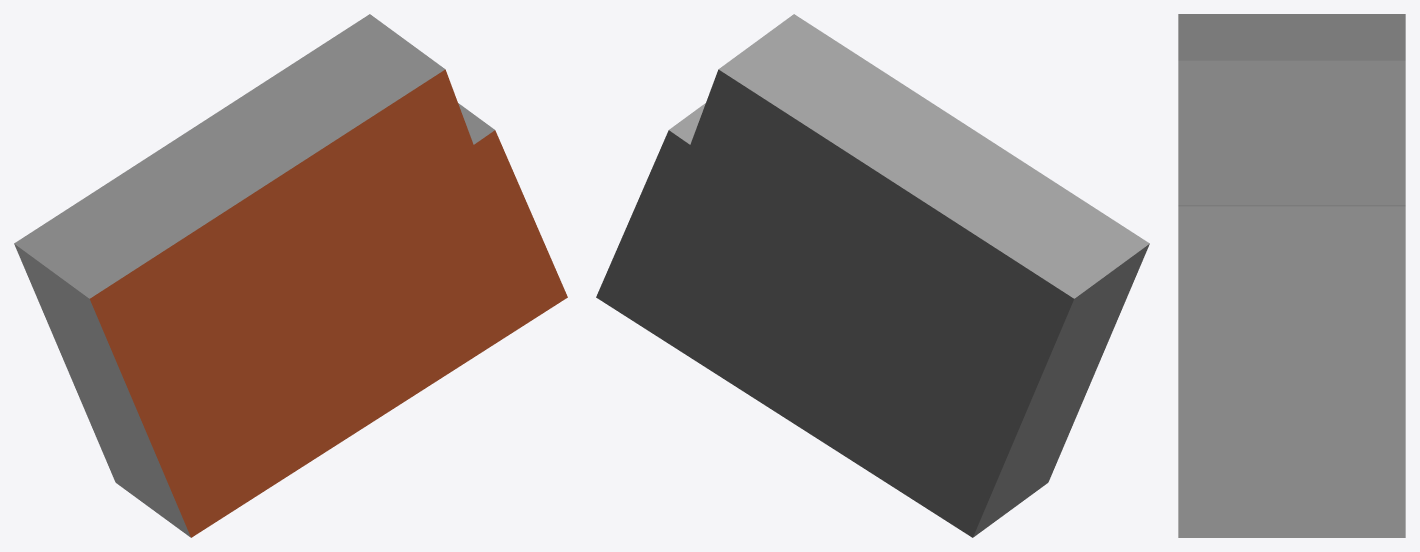
The model's file is construction_6313_assumed_A_Casa_h6m.obj.
The picture shows the model from 3 angles, left to right: view 1: azimuth 30°, elevation 25°; view 2: azimuth 150°, elevation 25°; view 3: azimuth 270°, elevation 25°; orthographic projection. The views are drawn at different scales.
Parts seen in each view (by area): view 1: construction_6313_assumed_A_Casa; view 2: construction_6313_assumed_A_Casa; view 3: construction_6313_assumed_A_Casa.
Part boxes in pixels (x1,y1,x2,y2): construction_6313_assumed_A_Casa: (14,14,567,537); construction_6313_assumed_A_Casa: (596,14,1149,537); construction_6313_assumed_A_Casa: (1178,14,1405,537).
Size of the model in its own units: 21.91 by 17.8 by 6.
